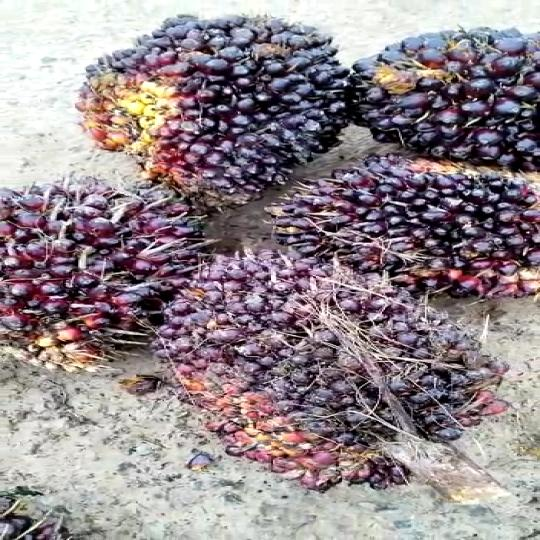kurang masak: (115, 249, 517, 513), (81, 19, 356, 189), (0, 164, 209, 372), (292, 161, 540, 285), (363, 26, 540, 192)
